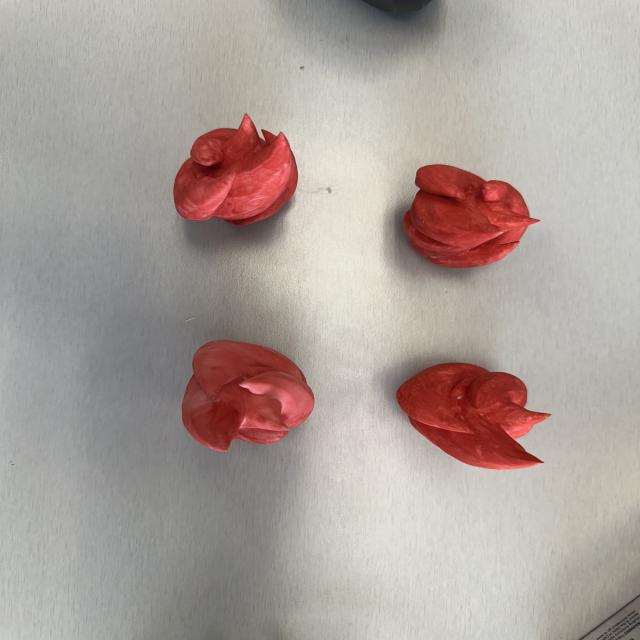fire: (394, 361, 554, 472), (181, 339, 315, 457), (174, 112, 300, 231), (403, 164, 540, 268)
